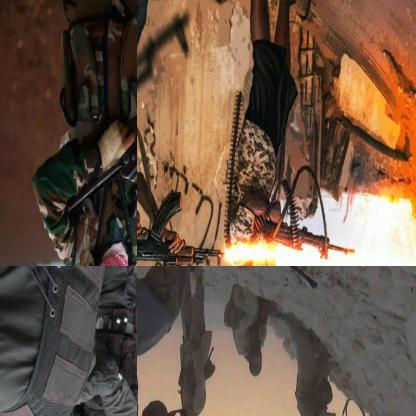rifle: (63, 3, 136, 217), (258, 175, 363, 265), (137, 191, 231, 265)
